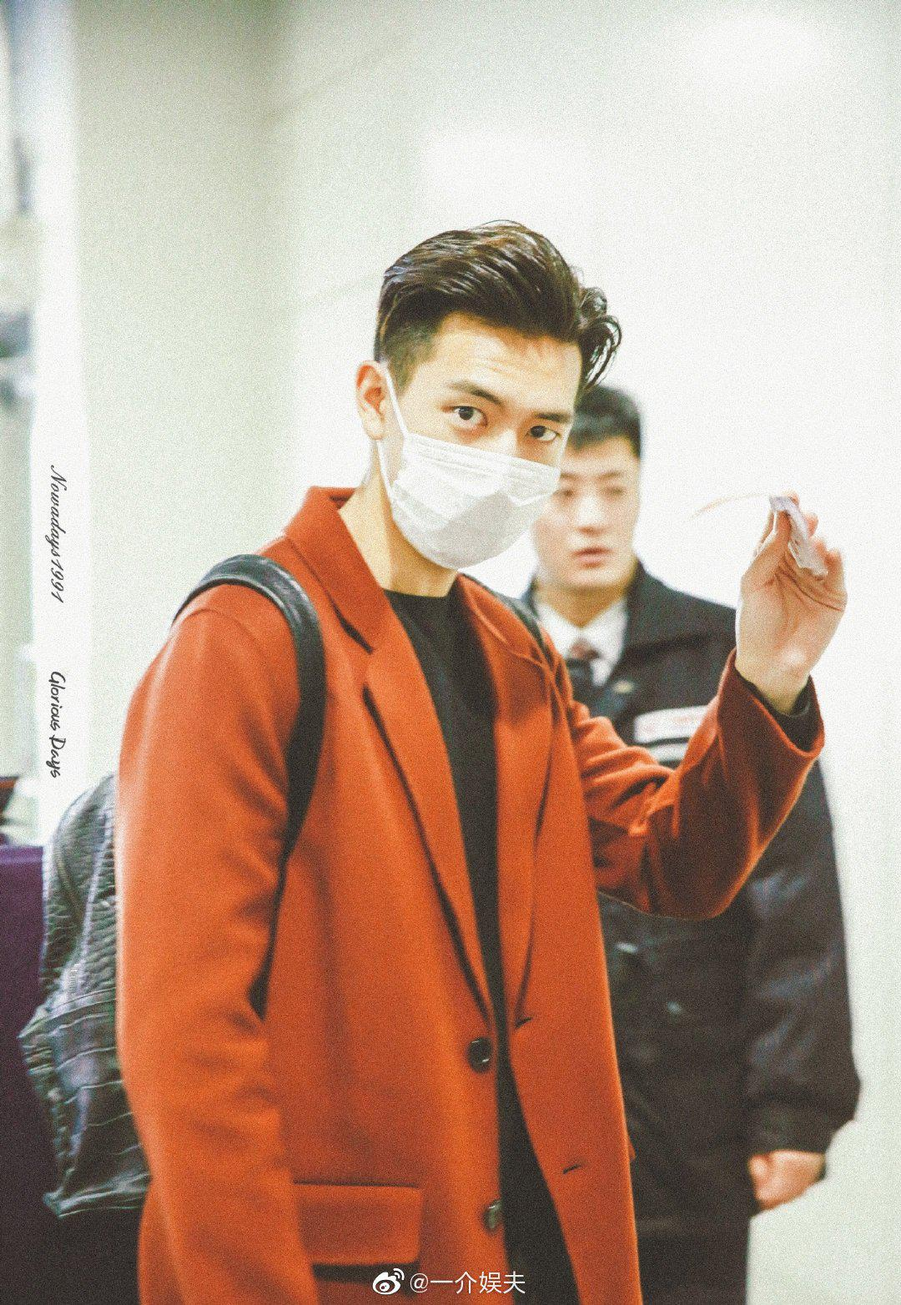NONE: (534, 453, 638, 594)
OK: (379, 357, 580, 572)
